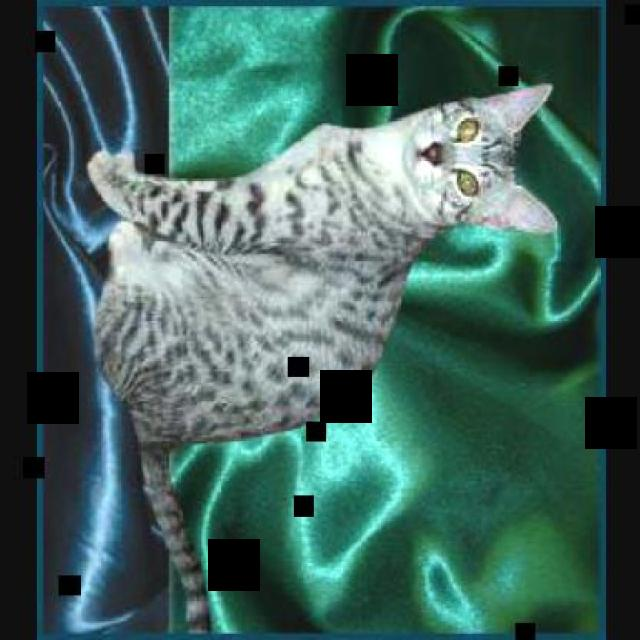unauthorized: (84, 80, 558, 631)
